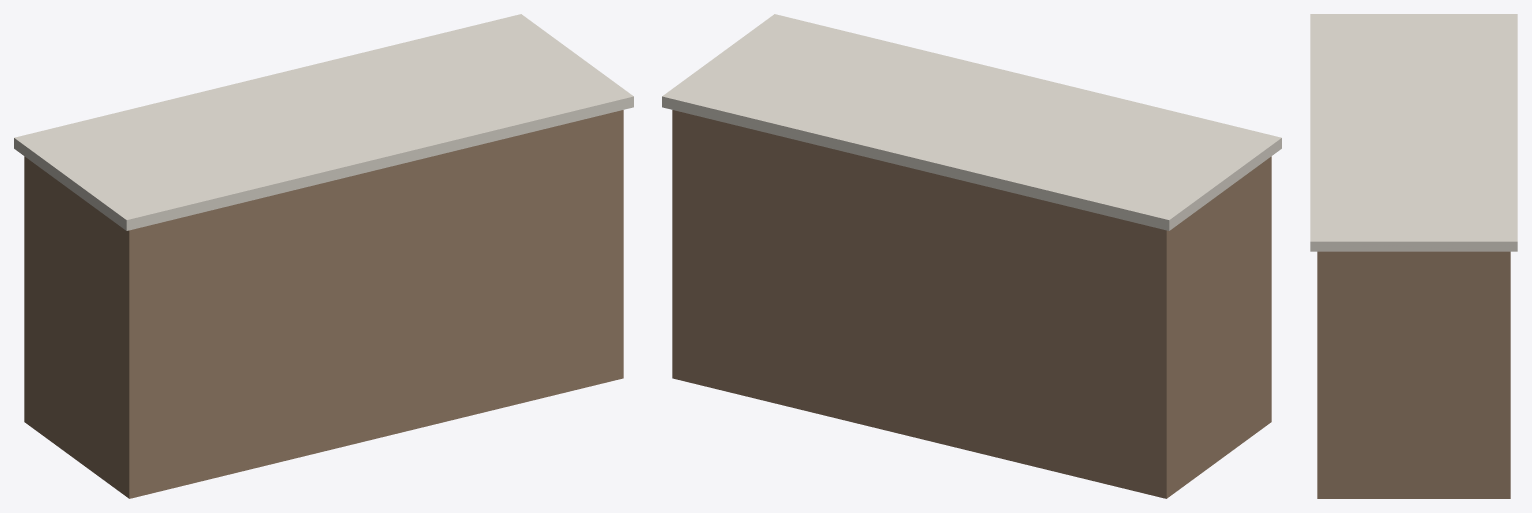
Rendered from counter.glb.
The picture shows the model from 3 angles, left to right: view 1: azimuth 30°, elevation 25°; view 2: azimuth 150°, elevation 25°; view 3: azimuth 270°, elevation 25°; orthographic projection. The views are drawn at different scales.
Parts seen in each view (by area): view 1: box, box.001; view 2: box, box.001; view 3: box.001, box.
Boxes of the visible parts, <box> form: box: <box>24,110,623,498</box>; box.001: <box>14,14,633,230</box>; box: <box>672,110,1271,498</box>; box.001: <box>662,14,1281,230</box>; box.001: <box>1310,14,1517,251</box>; box: <box>1317,251,1510,498</box>.
Bounding box in the file's own units: 1.95 × 1.04 × 0.75.
